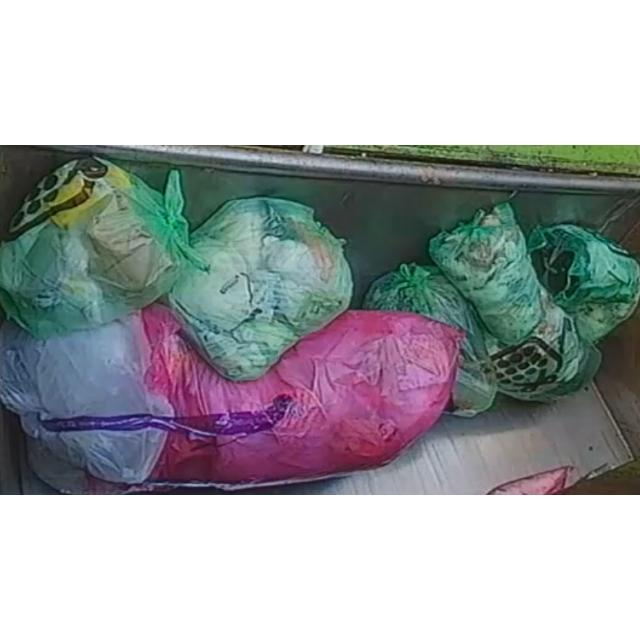general_trashbag: (0, 158, 206, 339), (169, 198, 352, 381), (364, 264, 498, 417), (429, 202, 541, 346), (528, 224, 640, 344), (485, 289, 601, 402)
other_trashbag: (0, 302, 462, 493)
